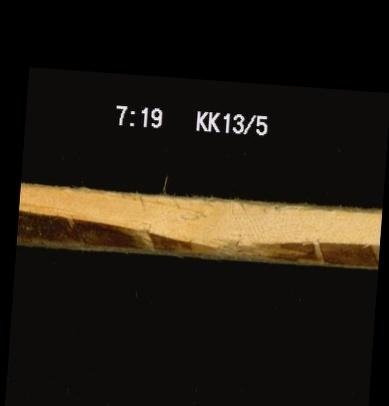wave: (16, 224, 378, 260)
